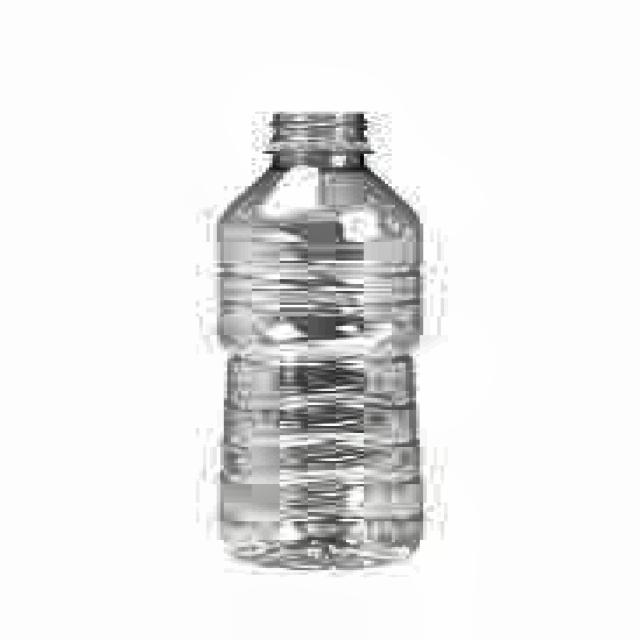plastic bottle: (218, 112, 421, 567)
